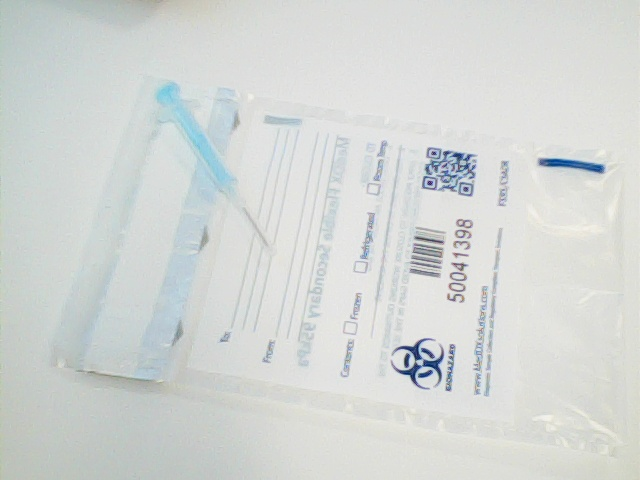syringe: (149, 78, 282, 265)
